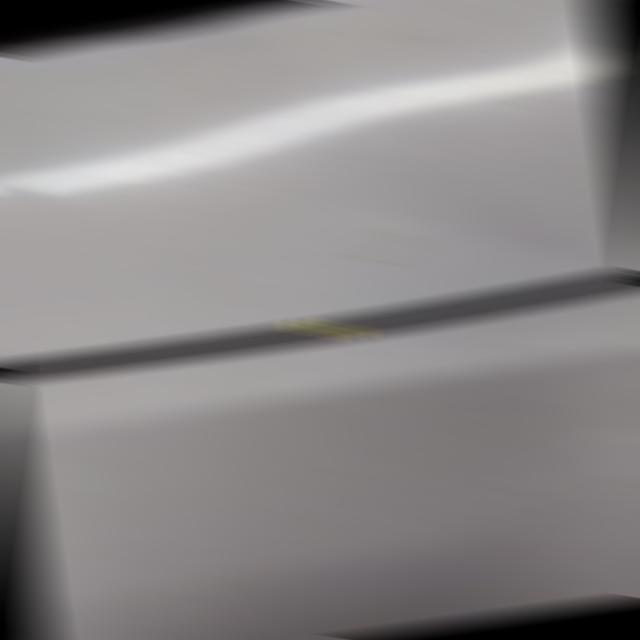yellow: (298, 318, 357, 339)
